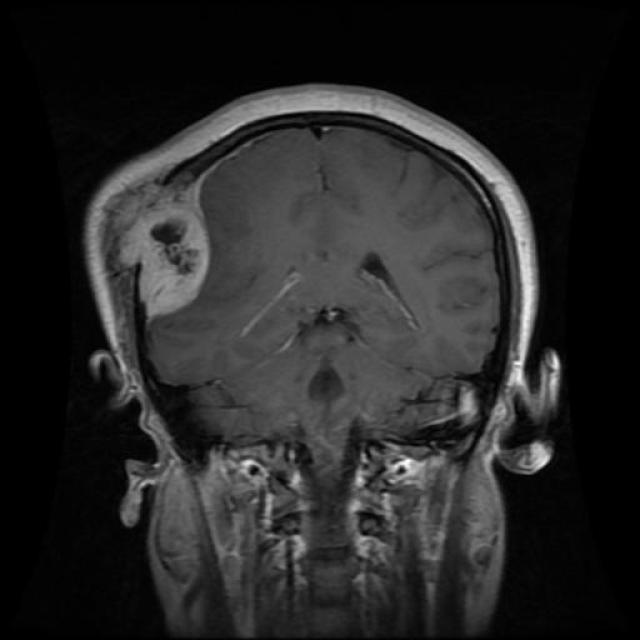Tumor: (116, 177, 210, 325)
